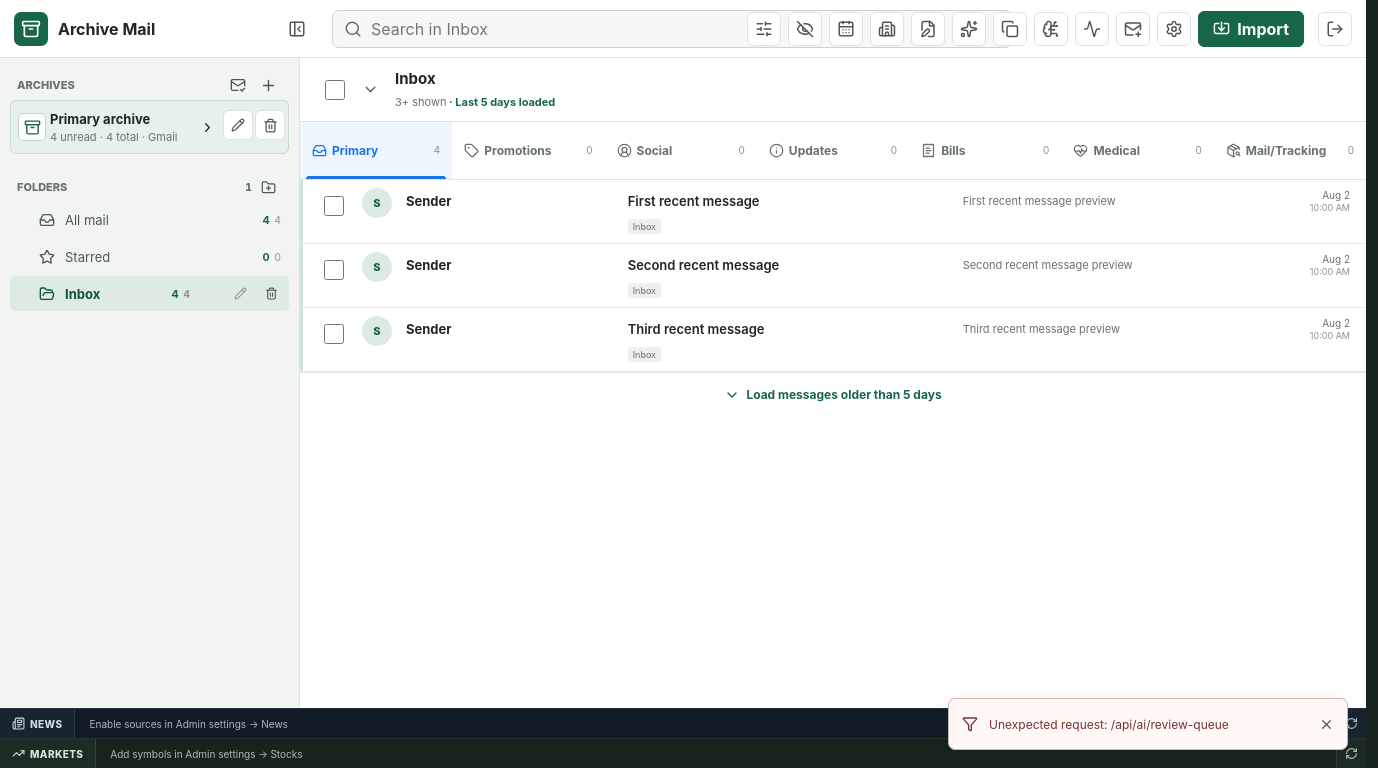
Test: App Inbox loading › opens Inbox, fills the five-day window in the background, and lazily requests older mail
Expected: the heading "Inbox" is shown, [395, 69, 436, 88]
Expected: the text "First recent message" is shown, [628, 193, 760, 209]
Click the button "Load messages older than 5 days": (833,394) [300, 372, 1366, 416]
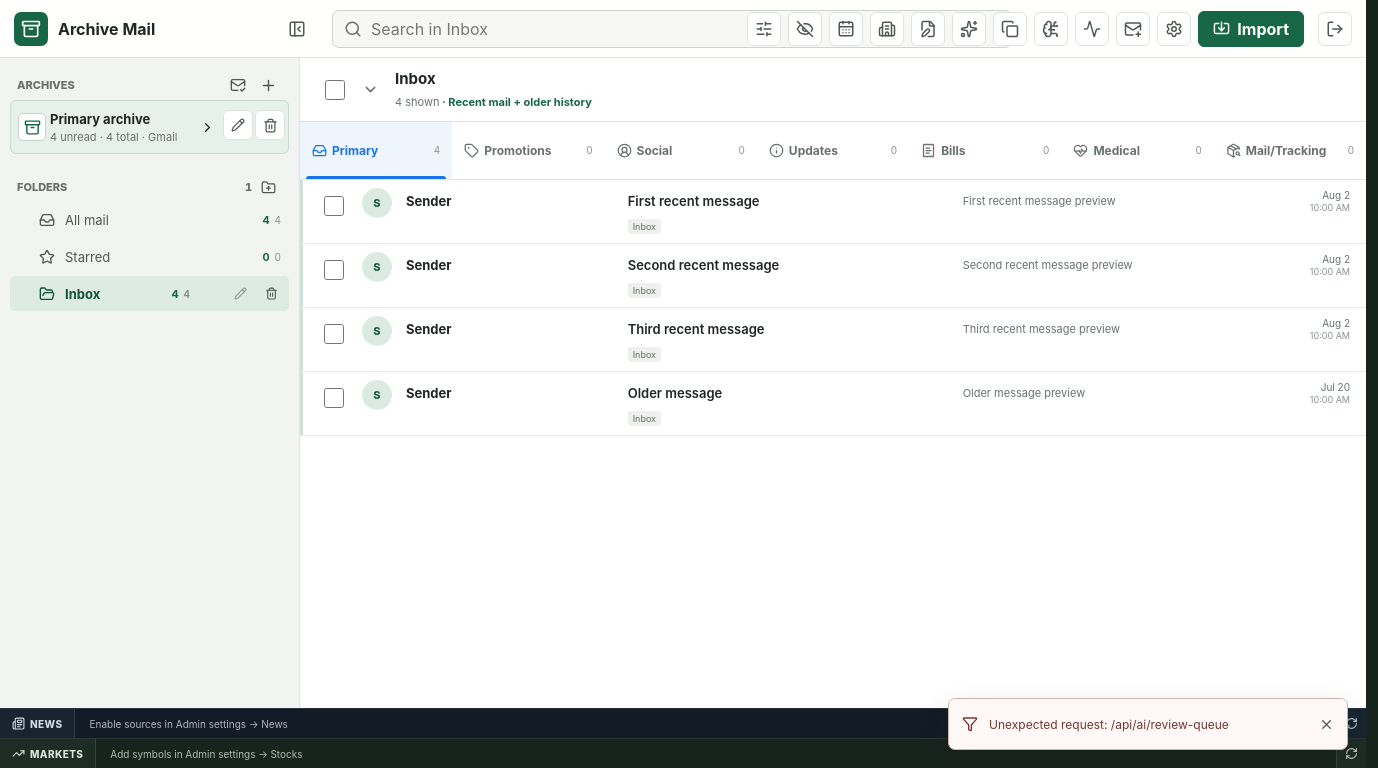
Now the text "Older message" is shown, box [628, 385, 722, 401]
